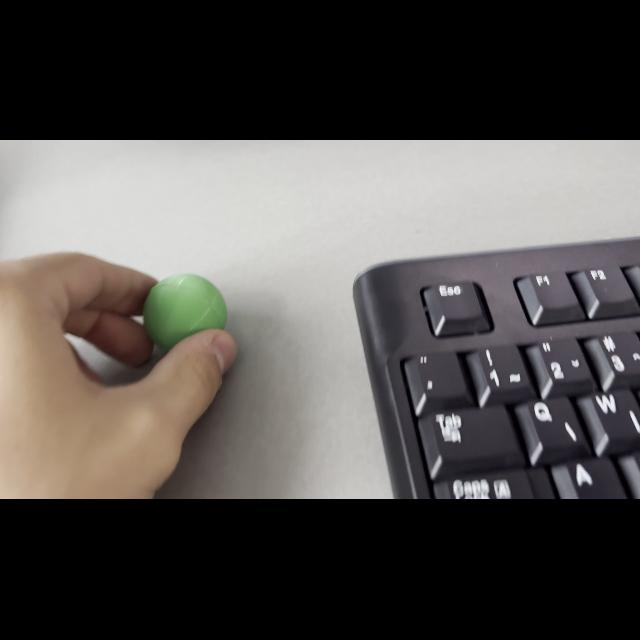objects: (140, 267, 226, 347)
